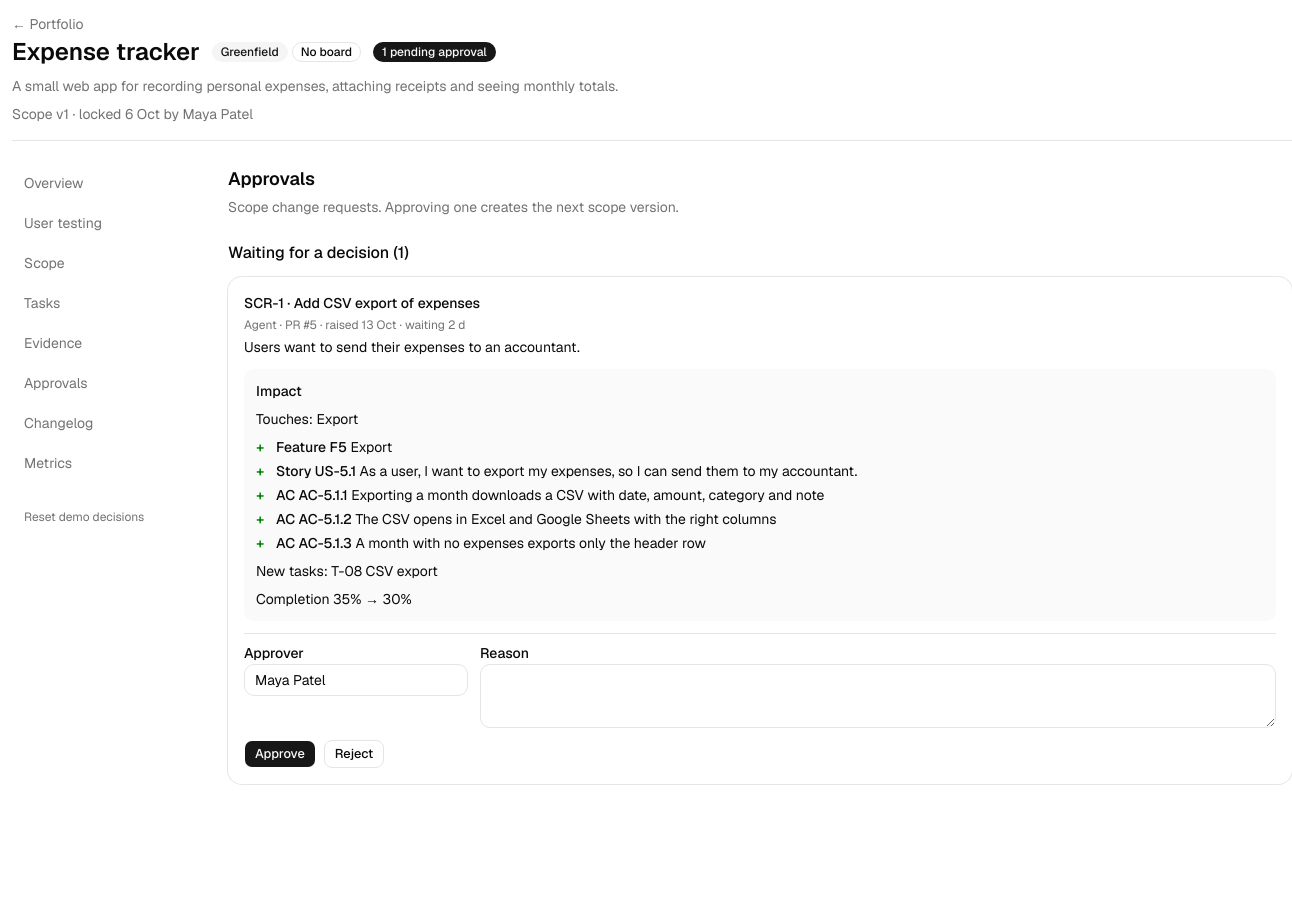
Test: ApprovalsView › approving creates v1.1 and moves the card to Decided
Type "Accountants need it" into the text box labelled "Reason" at (878, 696), box [480, 664, 1276, 728]
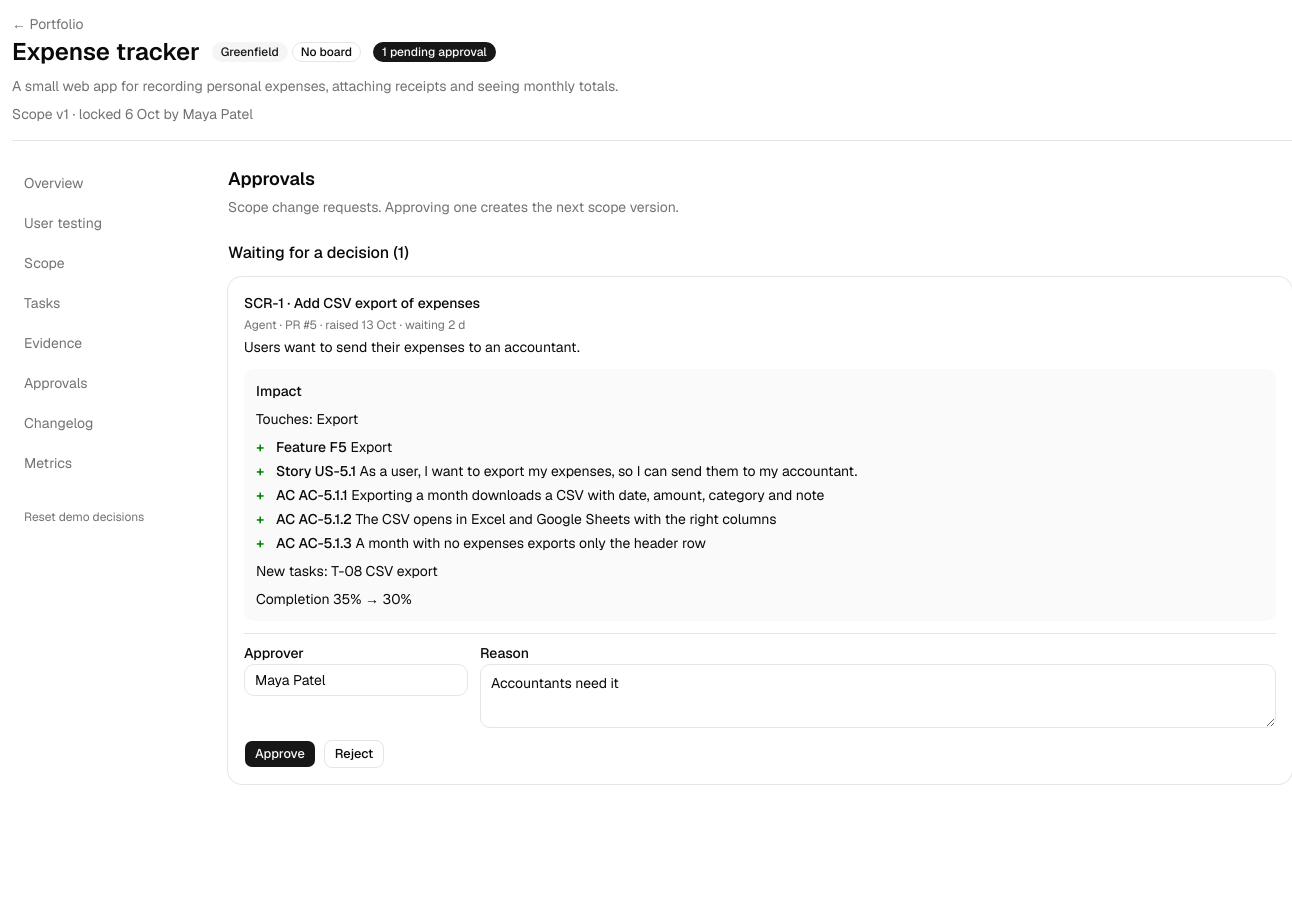
Click the button "Approve" at (280, 754), box [244, 740, 316, 768]
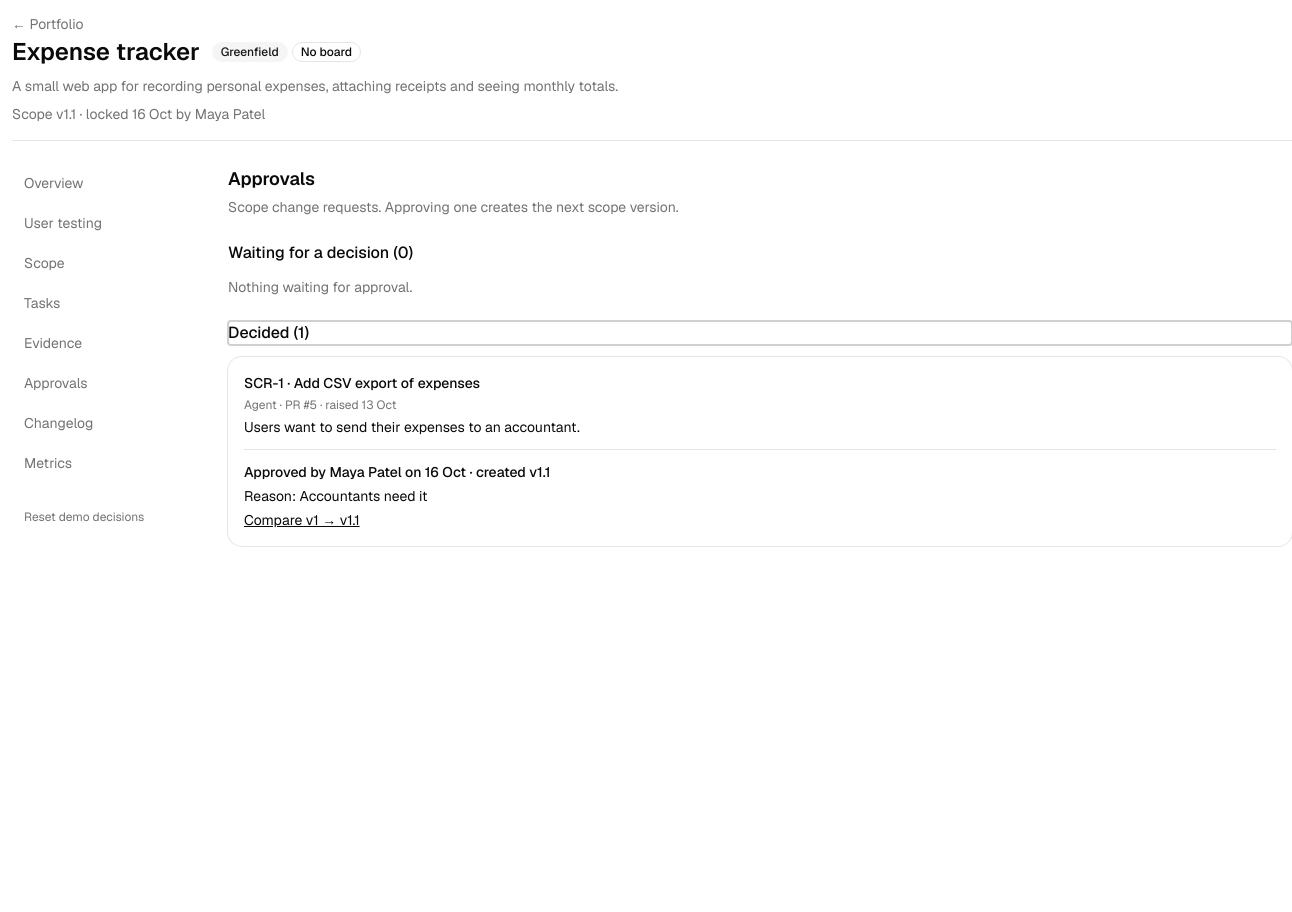
Check: the text "Nothing waiting for approval." is shown, box [228, 278, 412, 296]
Check: the text "Scope v1.1 · locked 16 Oct by Maya Patel" is shown, box [12, 105, 265, 123]
